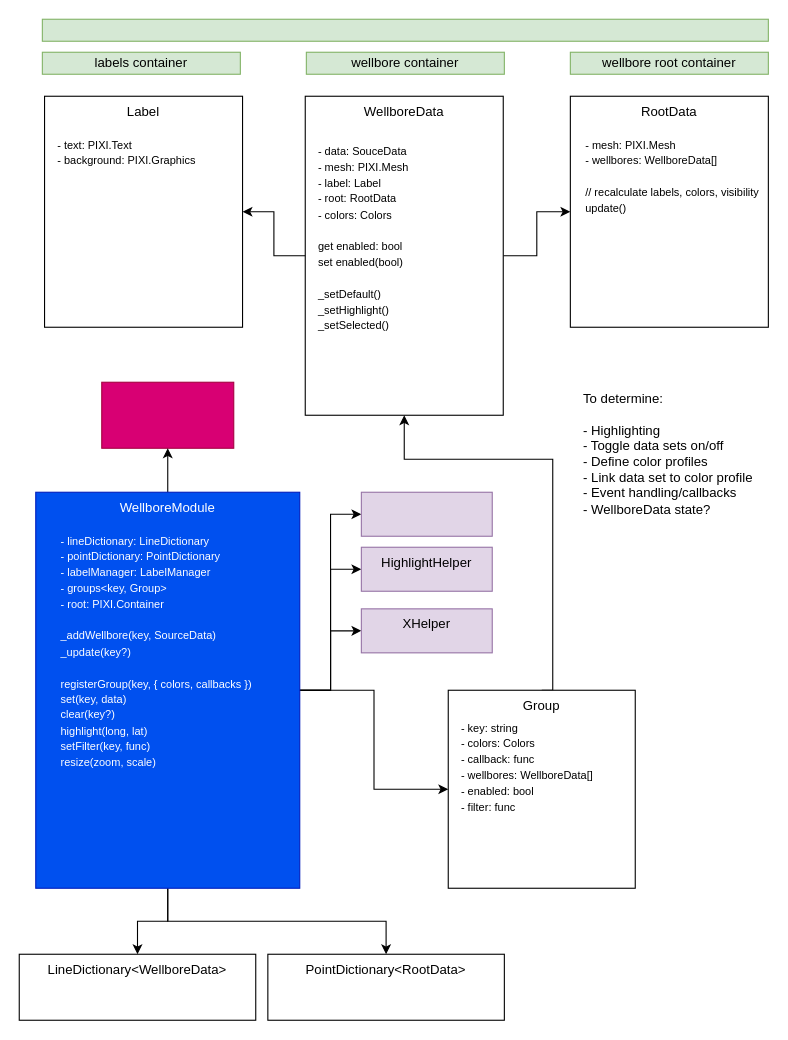
Image size: 788x1040. Some labels were removed from this diagram. Here are the shapes that lost their labels. From the top down, the centre of each, then its label:
At (404,29): "root container".
At (167,414): "pixiLayer".
At (426,513): "MeshHelper".
